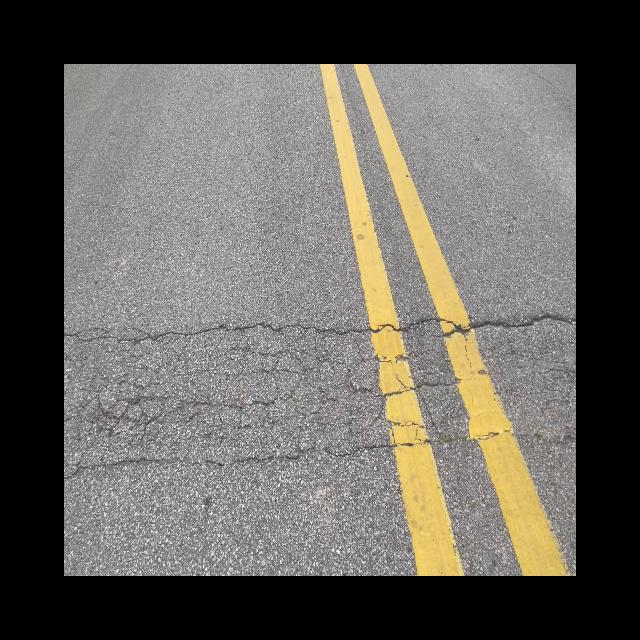retak_kulit_buaya: (64, 291, 356, 494)
retak_memanjang: (64, 419, 576, 496), (64, 312, 576, 359)
